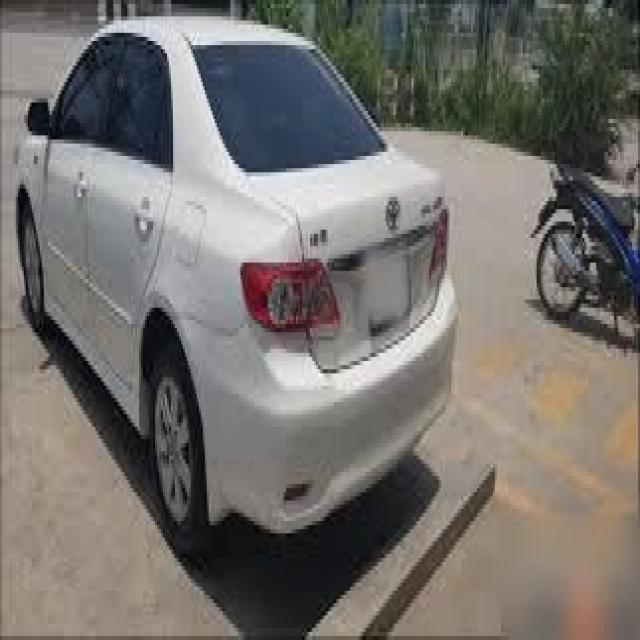back_bumper: (174, 265, 460, 531)
back_glass: (194, 44, 387, 174)
back_left_door: (87, 33, 175, 386)
back_left_light: (241, 259, 341, 333)
back_right_light: (430, 211, 452, 276)
front_left_door: (41, 30, 124, 353)
left_mirror: (24, 98, 50, 140)
tailgate: (242, 146, 445, 378)
wheel: (147, 347, 205, 555), (20, 206, 44, 327)
